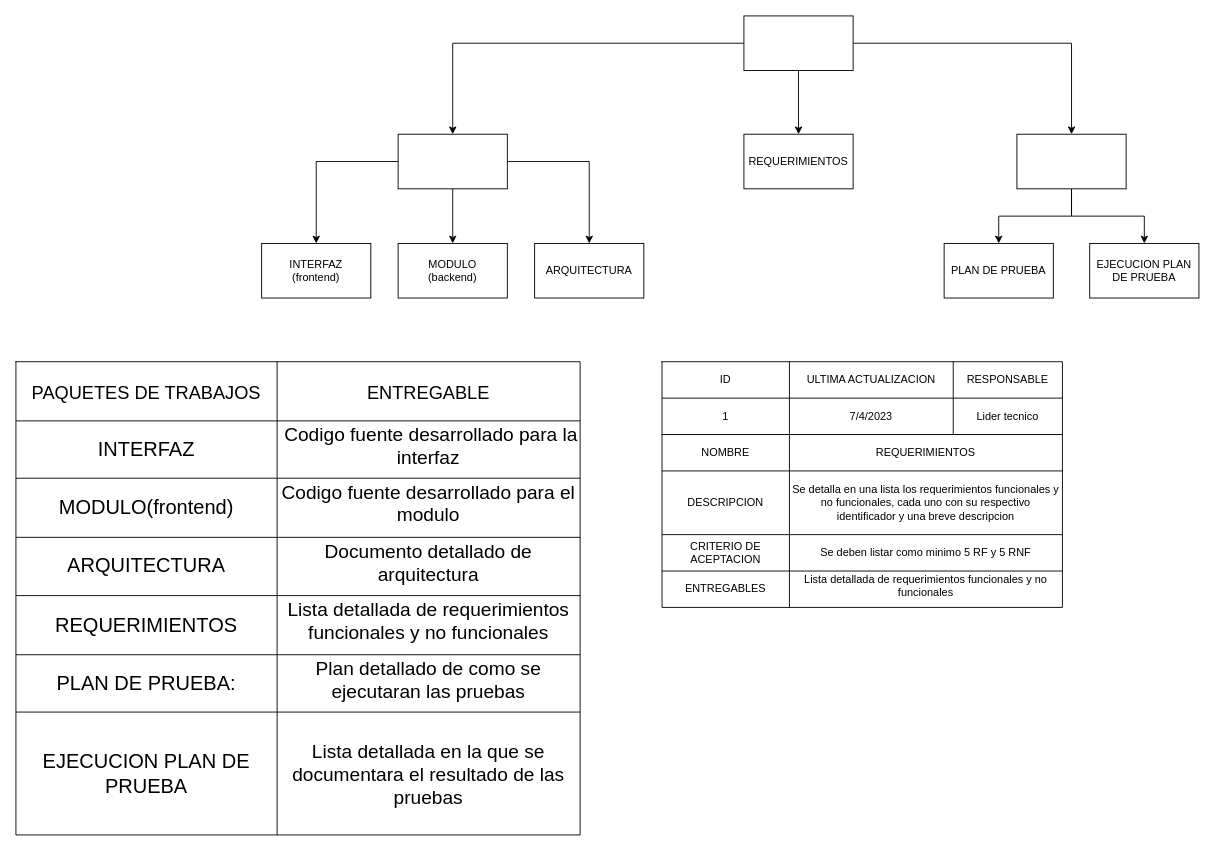
Image size: 1215x851. Some labels were removed from this diagram. The centre of each missing label's shape, as x and y in pixels:
"CASOS DE PRUEBA" goes at [1071,161].
"DISEÑO" goes at [452,161].
"PROYECTO" goes at [798,43].
